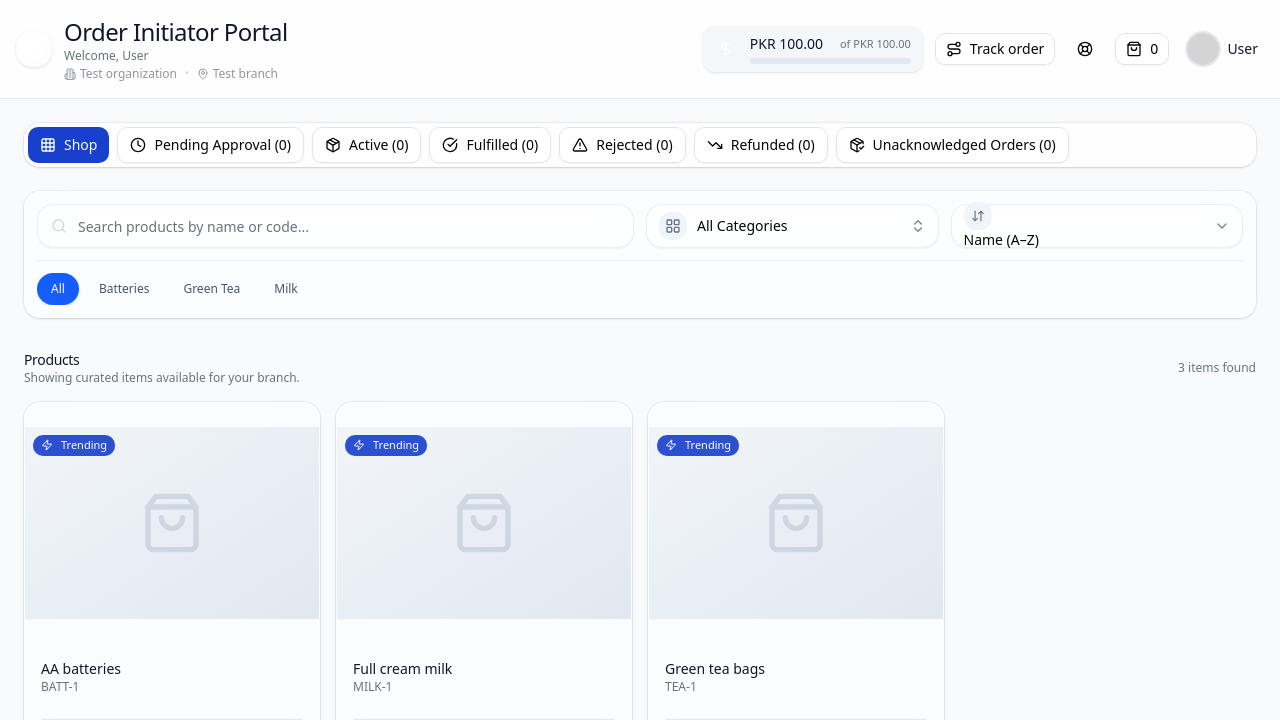
Test: OrderPortalPage category filter › keeps the picker in step when a ribbon chip is used
Click the button "Batteries".
click(124, 289)  # box [85,273,163,305]
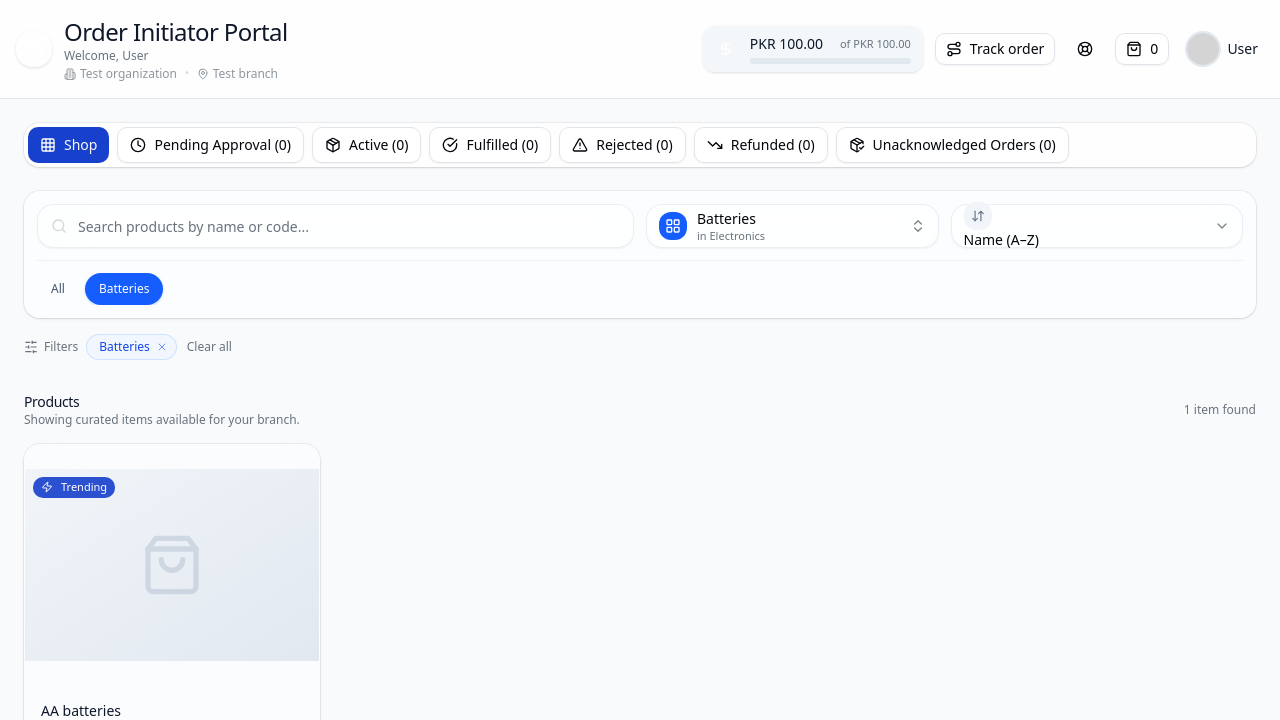
expect the dropdown named "Filter by category" shows "Batteries": met, box [646,204,938,248]
expect the dropdown named "Filter by category" shows "in Electronics": met, box [646,204,938,248]
